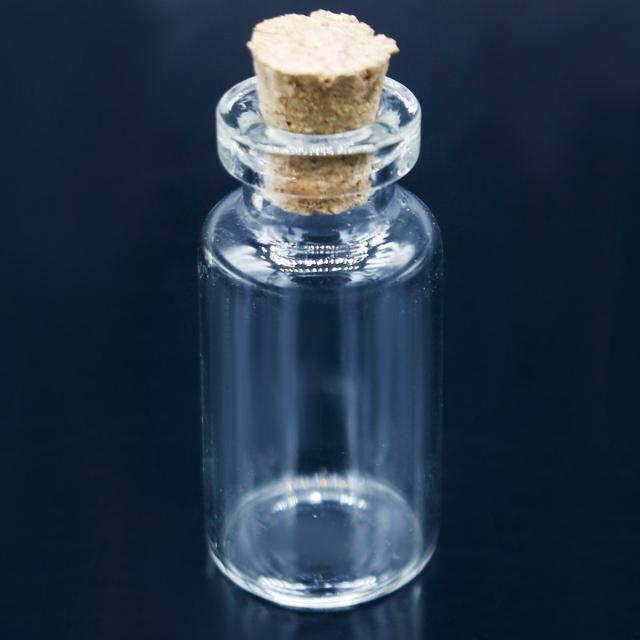glass: (180, 1, 477, 639)
